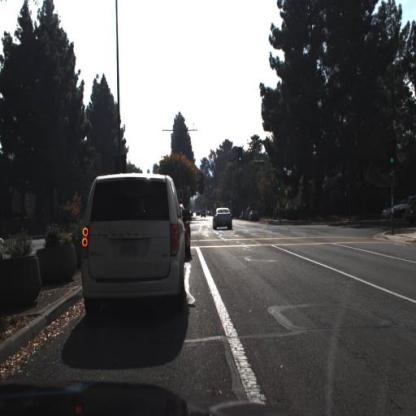car: (80, 169, 190, 323), (212, 205, 235, 232), (213, 204, 233, 232), (381, 201, 395, 222)
trafficLight-Green: (388, 141, 396, 169), (237, 150, 246, 171), (238, 148, 243, 164), (277, 179, 282, 193)
